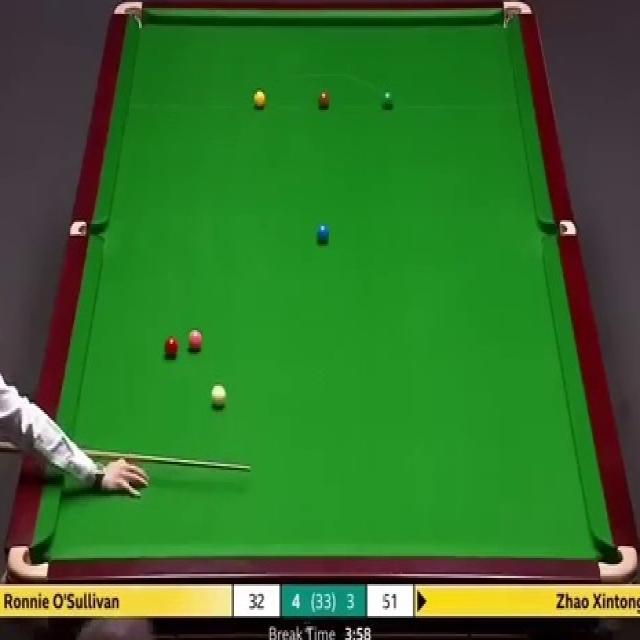pocket: (596, 543, 640, 582), (7, 542, 49, 582), (112, 0, 145, 34), (499, 0, 530, 32), (539, 218, 576, 240), (67, 220, 105, 235)
